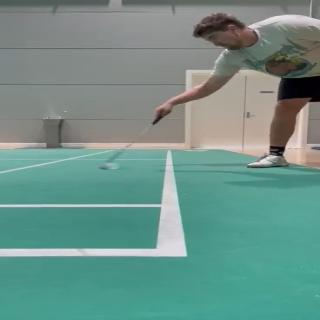Shuttle: (98, 162, 120, 170)
